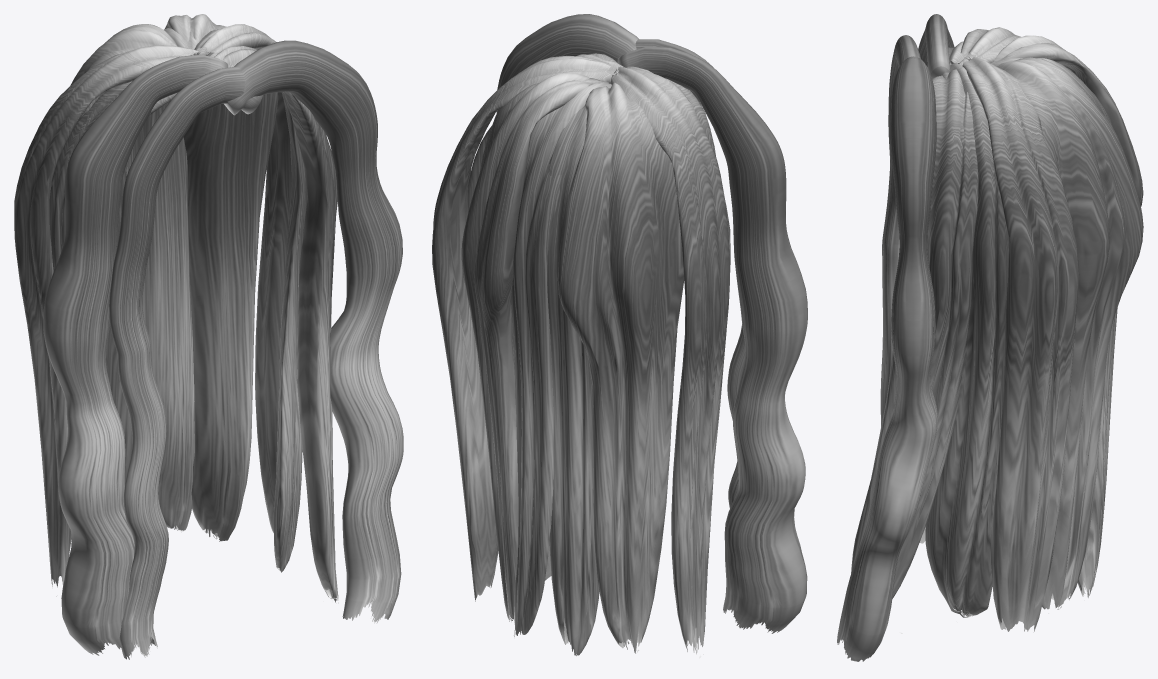
The model's file is perfect_hair_wave.fbx.
3 views of the same model, side by side, from view 1: azimuth 30°, elevation 25°; view 2: azimuth 150°, elevation 25°; view 3: azimuth 270°, elevation 25° (orthographic). The views are drawn at different scales.
Visible parts, largest first — view 1: perfect_hair_wave; view 2: perfect_hair_wave; view 3: perfect_hair_wave.
Boxes of the visible parts, box(x1,y1,x2,y2) form: perfect_hair_wave: box(14, 14, 403, 659); perfect_hair_wave: box(432, 14, 807, 658); perfect_hair_wave: box(837, 14, 1143, 661).
Bounding box in the file's own units: 3.41 × 5.51 × 2.71.
